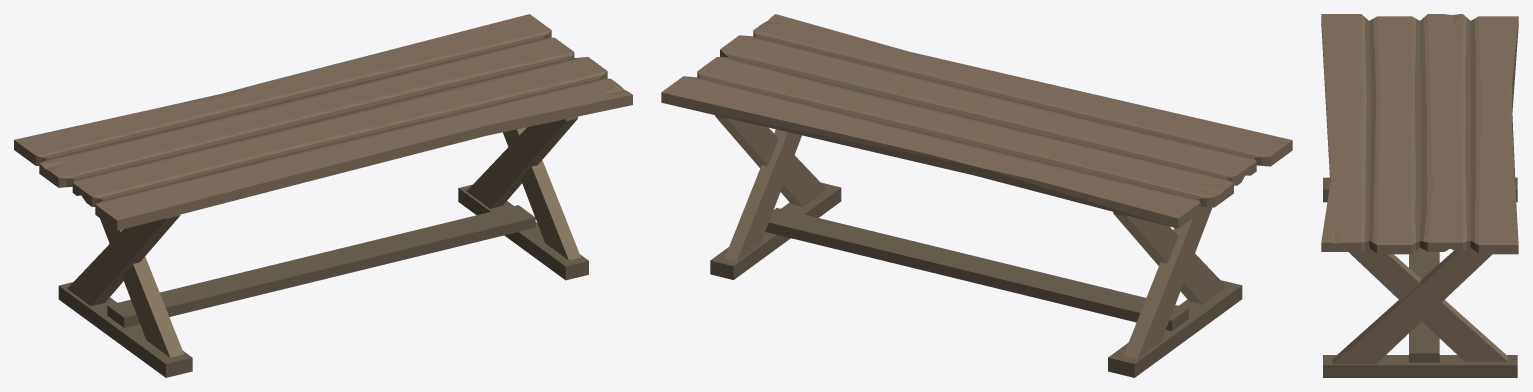
File: SM_Prop_Table_03.glb
3 views of the same model, side by side, from view 1: azimuth 30°, elevation 25°; view 2: azimuth 150°, elevation 25°; view 3: azimuth 270°, elevation 25° (orthographic). The views are drawn at different scales.
Visible parts, largest first — view 1: SM_Prop_Table_03; view 2: SM_Prop_Table_03; view 3: SM_Prop_Table_03.
Boxes of the visible parts, <box> form: SM_Prop_Table_03: <box>14,14,632,377</box>; SM_Prop_Table_03: <box>661,14,1292,377</box>; SM_Prop_Table_03: <box>1321,14,1518,377</box>.
Size of the model in its own units: 2.48 by 0.7744 by 0.897.
Materials: 1 (1 with a texture image).
